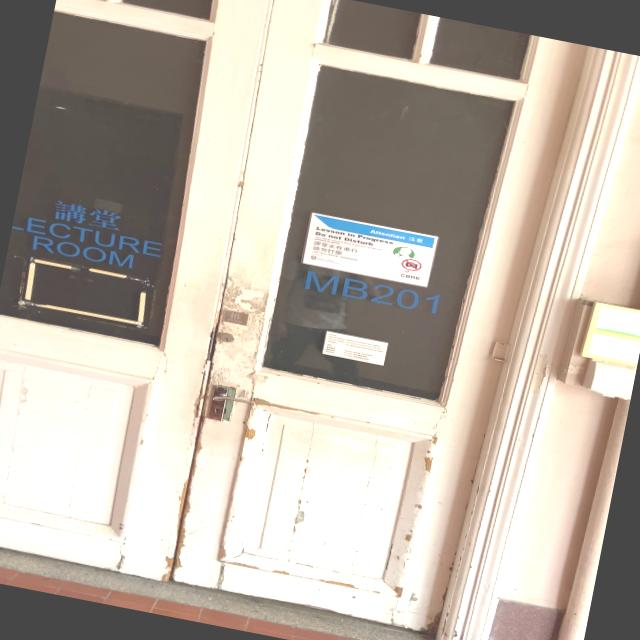room201Window: (294, 264, 448, 317)
